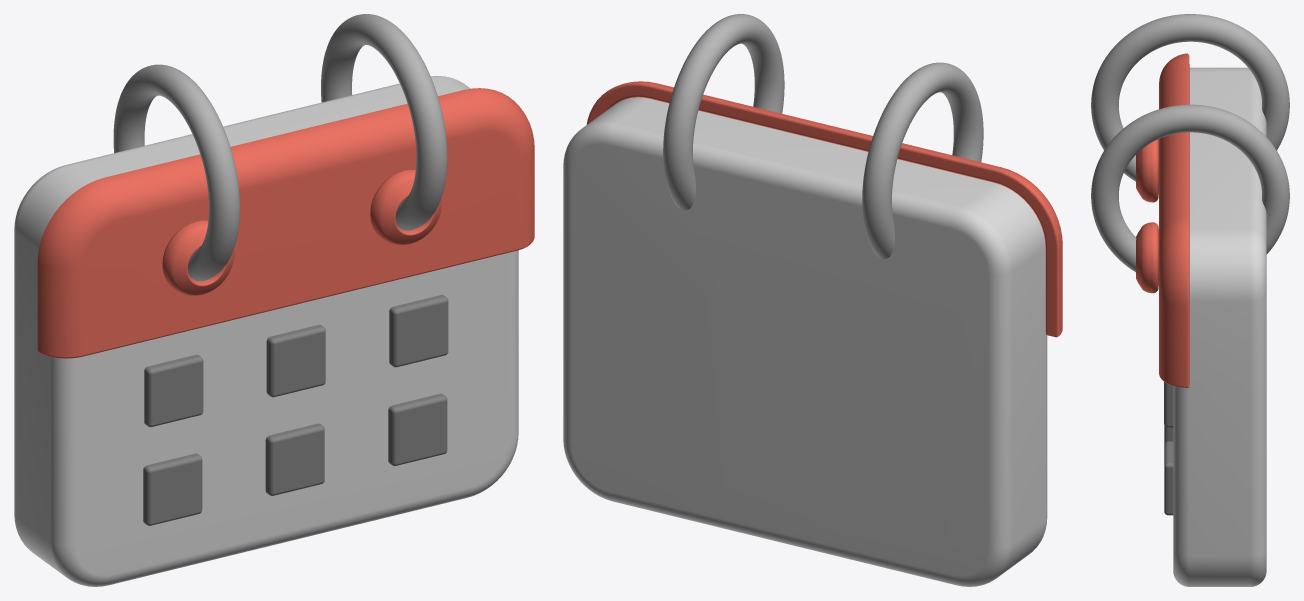
The model's file is Calendar.fbx.
The picture shows the model from 3 angles, left to right: view 1: azimuth 30°, elevation 25°; view 2: azimuth 150°, elevation 25°; view 3: azimuth 270°, elevation 25°; orthographic projection. The views are drawn at different scales.
Parts seen in each view (by area): view 1: Calendar; view 2: Calendar; view 3: Calendar.
Boxes of the visible parts, left/top/right/bottom form: Calendar: left=14, top=14, right=534, bottom=586; Calendar: left=563, top=14, right=1062, bottom=586; Calendar: left=1091, top=14, right=1289, bottom=586.
Bounding box in the file's own units: 1297 × 1238 × 505.
